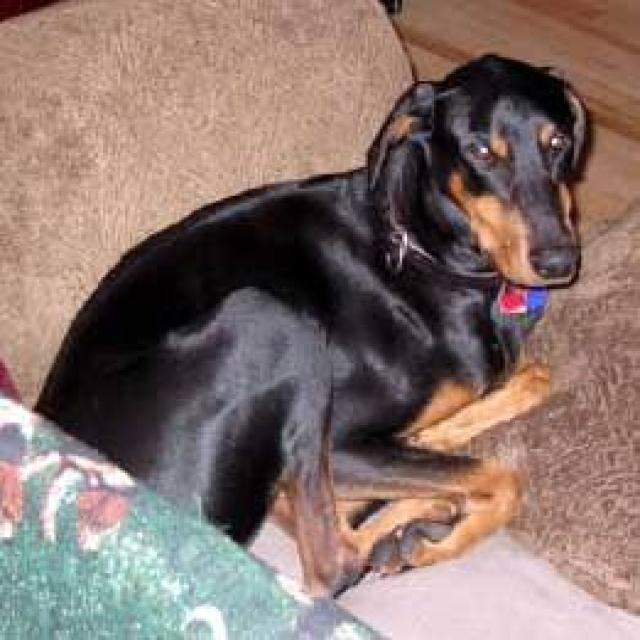dog: (29, 50, 588, 600)
